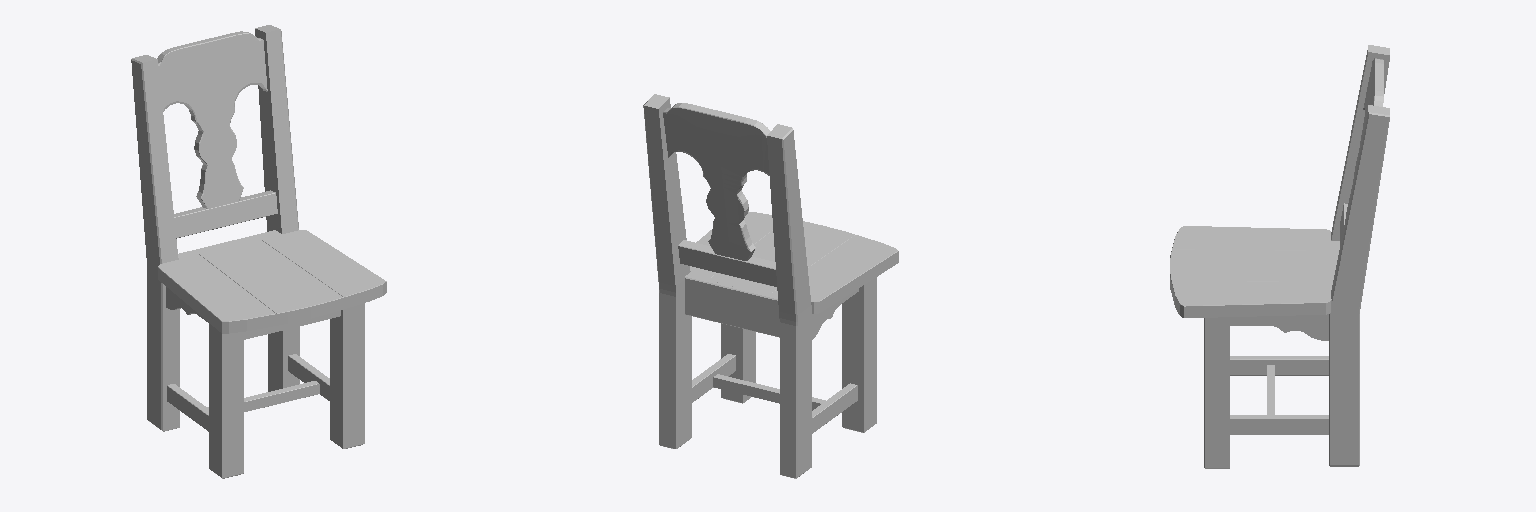
The model's file is chair_strong_01.obj.
3 views of the same model, side by side, from view 1: azimuth 30°, elevation 25°; view 2: azimuth 150°, elevation 25°; view 3: azimuth 270°, elevation 25° (orthographic).
Visible parts, largest first — view 1: Plane_Plane.004; view 2: Plane_Plane.004; view 3: Plane_Plane.004.
Part boxes in pixels (left/top/right/bottom): Plane_Plane.004: left=131, top=25, right=386, bottom=478; Plane_Plane.004: left=643, top=94, right=898, bottom=478; Plane_Plane.004: left=1170, top=45, right=1389, bottom=468.
Size of the model in its own units: 4.12 by 8.57 by 4.78.